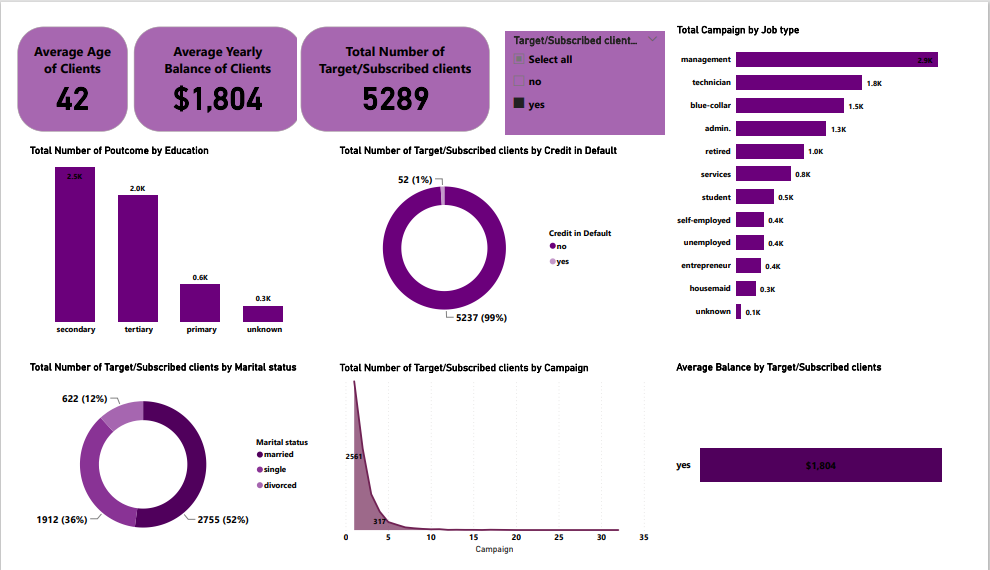

What the dashboard file says about the page in this screenshot:
{"tool":"powerbi","page":{"name":"Page 1","canvas":[1600,900],"ordinal":0},"visuals":[{"type":"cardVisual","fields":{"Data":["Avg(bank-full.Age)"]},"box":[0,11.9,194,185.1],"z":0},{"type":"columnChart","fields":{"Category":["bank-full.Education"],"Y":["CountNonNull(bank-full.Poutcome)"]},"box":[20.9,213.4,477.6,326.9],"z":1000},{"type":"barChart","fields":{"Category":["bank-full.Job"],"Y":["Sum(bank-full.Campaign)"]},"box":[1098.5,11.9,456.7,513.4],"z":2000},{"type":"cardVisual","fields":{"Data":["Avg(bank-full.Balance)"]},"box":[194,11.9,289.6,185.1],"z":3000},{"type":"donutChart","fields":{"Category":["bank-full.Marital status"],"Y":["CountNonNull(bank-full.Y)"]},"box":[20.7,574.1,496.6,325.9],"z":4000},{"type":"stackedAreaChart","fields":{"Category":["bank-full.Campaign"],"Y":["CountNonNull(bank-full.Target/Subscribed clients)"]},"box":[537.3,574.6,526.9,325.4],"z":5000},{"type":"funnel","title":"Average Balance by Target/Subscribed clients","fields":{"Category":["bank-full.Subscribed clients"],"Y":["Avg(bank-full.Balance)"]},"box":[1098.3,574.1,456.9,325.9],"z":6000},{"type":"slicer","fields":{"Values":["bank-full.Subscribed clients"]},"box":[819.4,23.9,264.2,173.1],"z":7000},{"type":"donutChart","fields":{"Category":["bank-full.Credit in Default"],"Y":["CountNonNull(bank-full.Subscribed clients)"]},"box":[537.3,213.4,485.1,326.9],"z":8000},{"type":"cardVisual","fields":{"Data":["bank-full.Measure 2"]},"box":[471.6,11.9,325.4,185.1],"z":9000}]}

Visuals, with their boxes in screenshot pixels (x1, y1, x2, y2), scaled from the page's 1600x900 canvas onto the 990x570 screenshot:
cardVisual - Avg(bank-full.Age): [0,8,120,125]
columnChart - bank-full.Education x CountNonNull(bank-full.Poutcome): [13,135,308,342]
barChart - bank-full.Job x Sum(bank-full.Campaign): [680,8,962,333]
cardVisual - Avg(bank-full.Balance): [120,8,299,125]
donutChart - bank-full.Marital status x CountNonNull(bank-full.Y): [13,364,320,569]
stackedAreaChart - bank-full.Campaign x CountNonNull(bank-full.Target/Subscribed clients): [332,364,658,569]
"Average Balance by Target/Subscribed clients" funnel: [680,364,962,569]
slicer - bank-full.Subscribed clients: [507,15,670,125]
donutChart - bank-full.Credit in Default x CountNonNull(bank-full.Subscribed clients): [332,135,633,342]
cardVisual - bank-full.Measure 2: [292,8,493,125]
